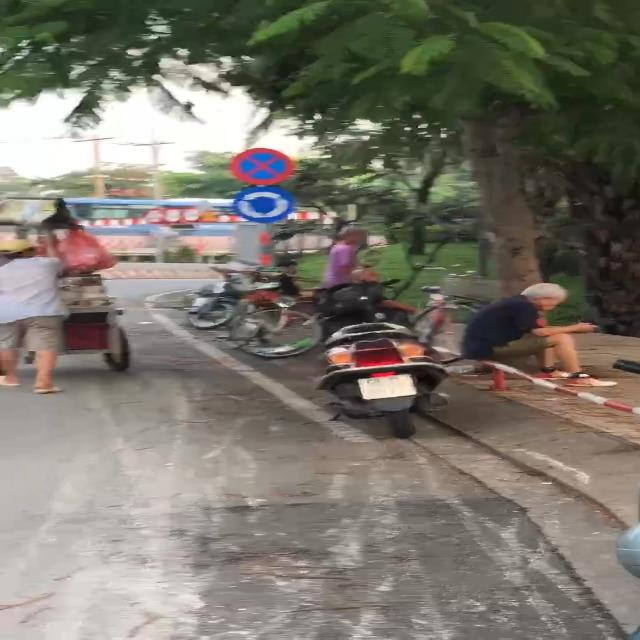Bien bao cam dung xe va do xe: (226, 146, 306, 185)
Bien bao noi giao nhau chay theo vong xuyen: (222, 186, 290, 224)
